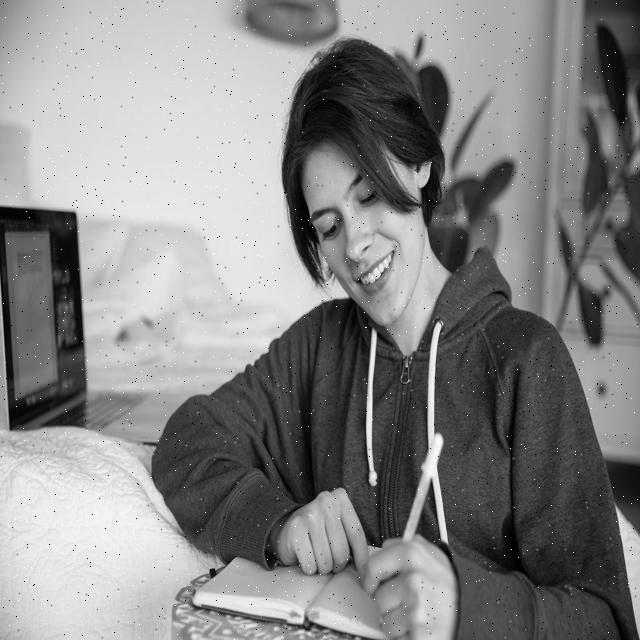Happiness: (300, 146, 425, 332)
